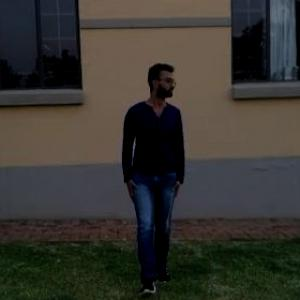follow: (117, 54, 193, 292)
